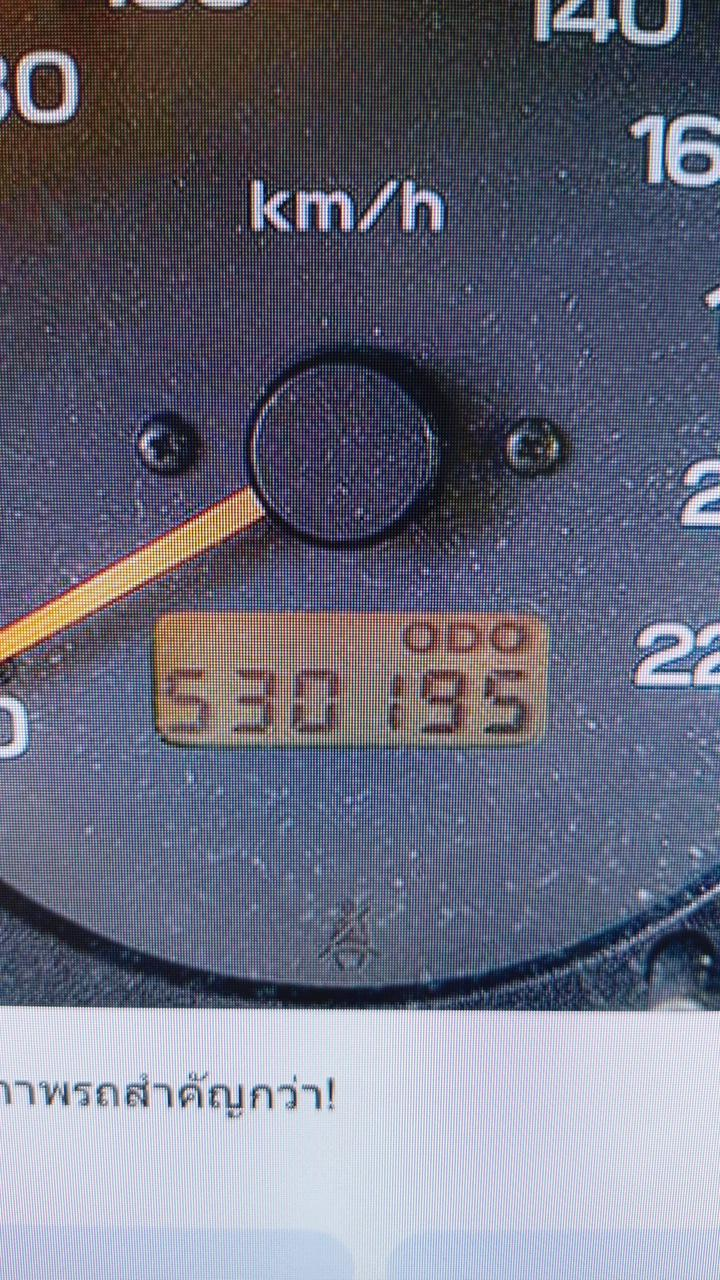odometer: (148, 605, 552, 753)
